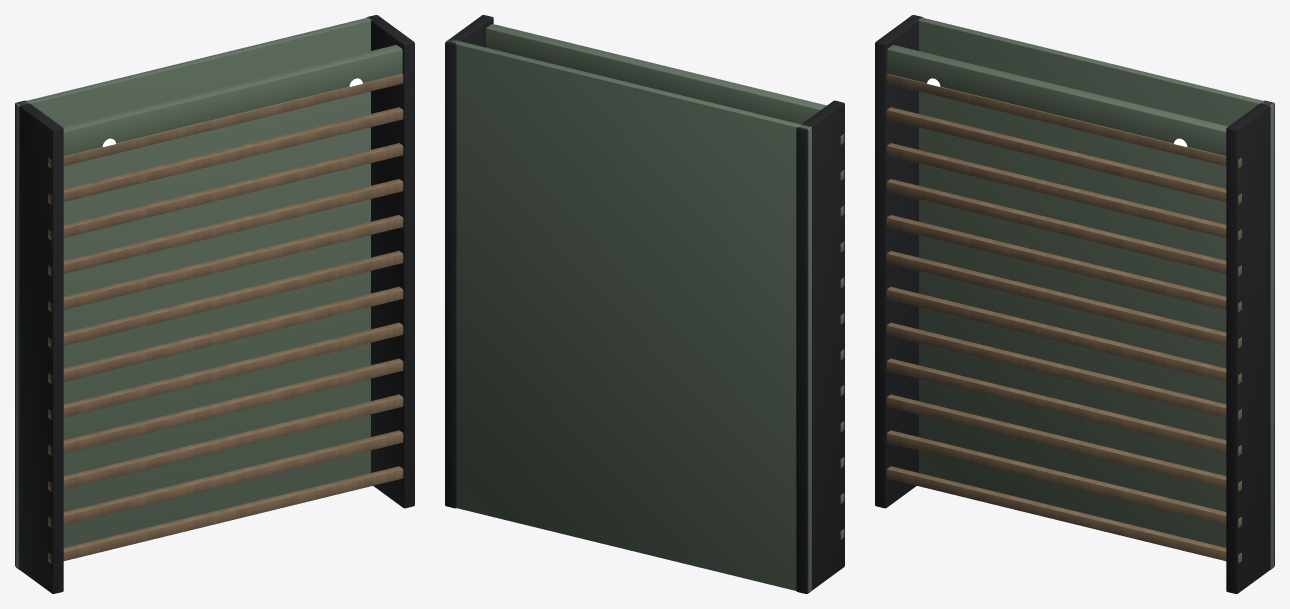
Rendered from pf_display_wall_slat_system_t3.glb.
3 views of the same model, side by side, from view 1: azimuth 30°, elevation 25°; view 2: azimuth 150°, elevation 25°; view 3: azimuth 330°, elevation 25° (orthographic).
Parts seen in each view (by area): view 1: Slatwall_Back, Slatwall_Left_Trim, Slatwall_Right_Trim, Header_Back, Slat_04, Slat_06, Slat_10, Slat_05, Slat_08, Slat_11, Slat_01, Slat_03 (+4 smaller); view 2: Slatwall_Back, Slatwall_Left_Trim, Header_Back, Slatwall_Right_Trim; view 3: Slatwall_Back, Slatwall_Right_Trim, Slatwall_Left_Trim, Header_Back, Slat_04, Slat_06, Slat_10, Slat_05, Slat_08, Slat_11, Slat_01, Slat_03 (+4 smaller).
Part boxes in pixels (x1,y1,x2,y2): Slatwall_Back: [15, 15, 381, 569]; Slatwall_Left_Trim: [15, 100, 63, 593]; Slatwall_Right_Trim: [366, 15, 414, 508]; Header_Back: [62, 45, 402, 155]; Slat_04: [48, 358, 403, 455]; Slat_06: [48, 286, 403, 383]; Slat_10: [48, 143, 403, 240]; Slat_05: [48, 322, 403, 419]; Slat_08: [48, 215, 403, 312]; Slat_11: [48, 107, 403, 204]; Slat_01: [48, 466, 403, 563]; Slat_03: [48, 394, 403, 491]; Slatwall_Back: [446, 39, 811, 593]; Slatwall_Left_Trim: [796, 100, 844, 593]; Header_Back: [486, 24, 826, 124]; Slatwall_Right_Trim: [445, 15, 493, 508]; Slatwall_Back: [908, 15, 1274, 569]; Slatwall_Right_Trim: [1226, 100, 1274, 593]; Slatwall_Left_Trim: [875, 15, 923, 508]; Header_Back: [887, 45, 1227, 155]; Slat_04: [886, 358, 1241, 455]; Slat_06: [886, 286, 1241, 383]; Slat_10: [886, 143, 1241, 240]; Slat_05: [886, 322, 1241, 419]; Slat_08: [886, 215, 1241, 312]; Slat_11: [886, 107, 1241, 204]; Slat_01: [886, 466, 1241, 563]; Slat_03: [886, 394, 1241, 491].
Size of the model in its own units: 1.75 by 2.14 by 0.32.
6 materials, 2 textured.
